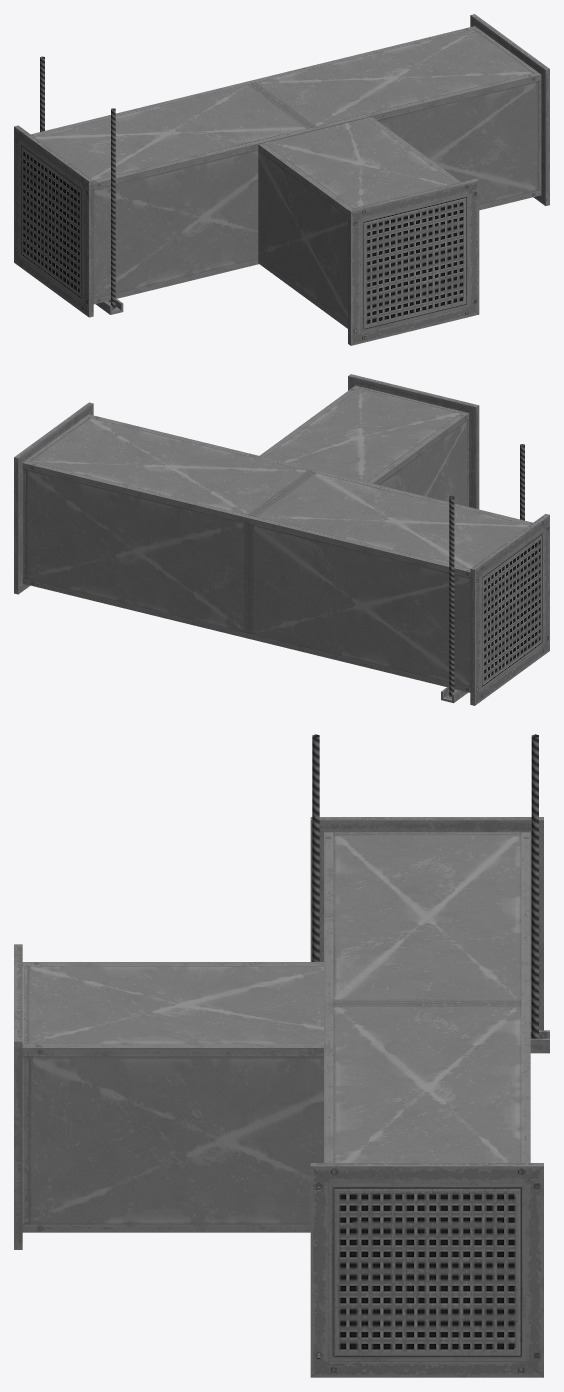
The model's file is HH_Ventilation_Angle_01.fbx.
3 renders of one model, top to bottom at view 1: azimuth 30°, elevation 25°; view 2: azimuth 150°, elevation 25°; view 3: azimuth 270°, elevation 25°, orthographic. The views are drawn at different scales.
Parts seen in each view (by area): view 1: HH_Ventilation_Angle_01; view 2: HH_Ventilation_Angle_01; view 3: HH_Ventilation_Angle_01.
Part boxes in pixels (x1,y1,x2,y2): HH_Ventilation_Angle_01: [14, 14, 549, 345]; HH_Ventilation_Angle_01: [14, 374, 549, 705]; HH_Ventilation_Angle_01: [14, 734, 549, 1377].
Size of the model in its own units: 200 by 83.44 by 130.
